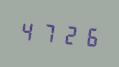four: (18, 16, 37, 45)
seven: (38, 18, 57, 46)
six: (78, 21, 97, 50)
two: (58, 19, 77, 48)
